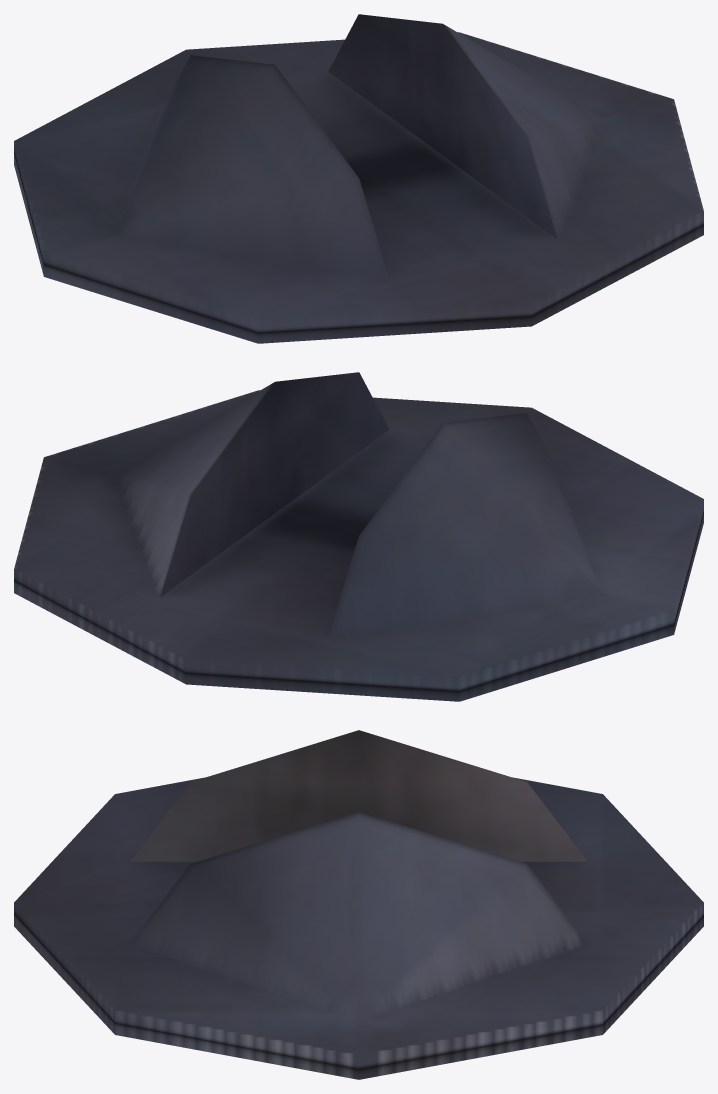
File: alpha_ship_cannon_base.fbx
3 renders of one model, top to bottom at view 1: azimuth 30°, elevation 25°; view 2: azimuth 150°, elevation 25°; view 3: azimuth 270°, elevation 25°, orthographic.
Parts seen in each view (by area): view 1: cannon_base; view 2: cannon_base; view 3: cannon_base.
Part boxes in pixels (x1,y1,x2,y2): cannon_base: (14, 14, 703, 343); cannon_base: (14, 372, 703, 701); cannon_base: (14, 730, 703, 1079).
Bounding box in the file's own units: 45.21 × 10.68 × 42.95.
Materials: 1 (1 with a texture image).
